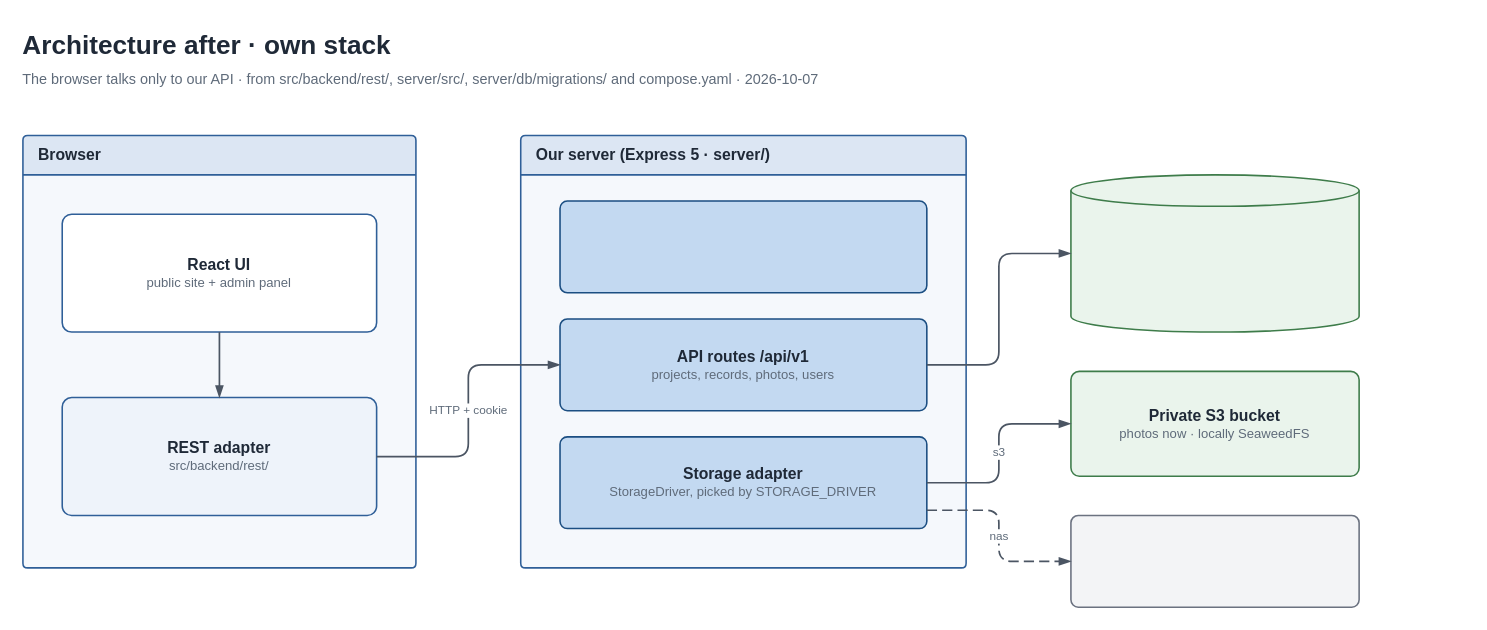
The diagram is 1487 pixels wide and 630 high, and some of its shapes have lost their labels. The centre of each missing label's shape, as x and y in pixels:
Auth + roles admin table, cookie sessions: pixel 743 246
NAS folder next step · a config change: pixel 1214 560
PostgreSQL 17 dbmate migrations: pixel 1214 252
